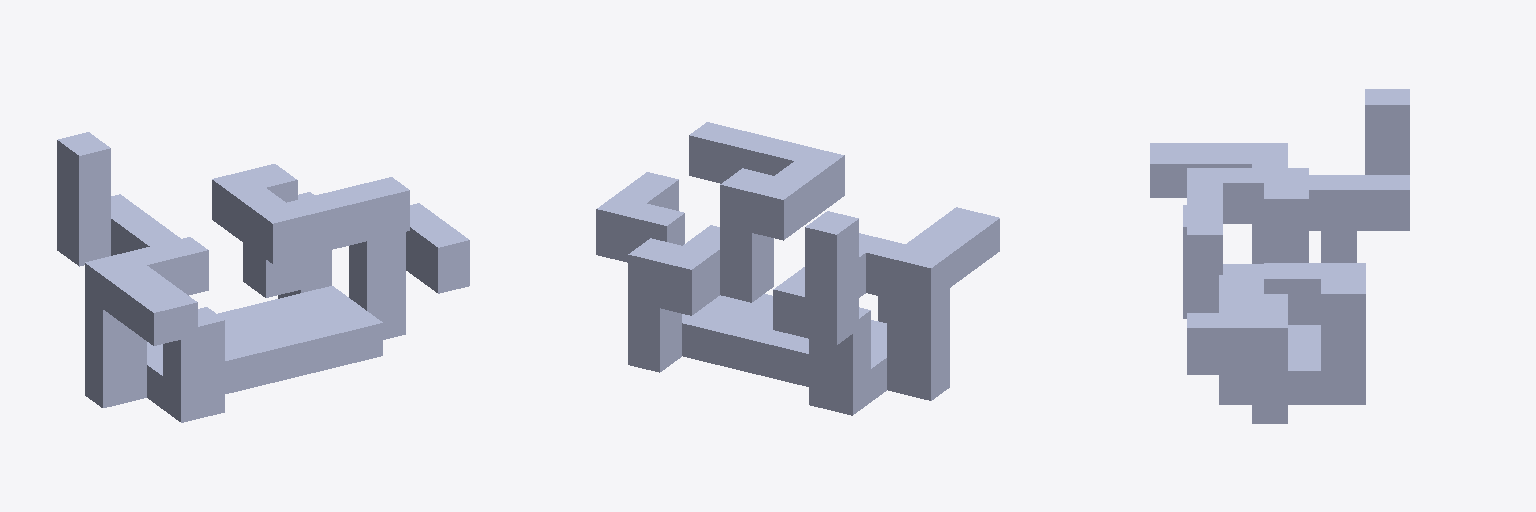
The model's file is Distractor_15.obj.
The picture shows the model from 3 angles: view 1: azimuth 30°, elevation 25°; view 2: azimuth 150°, elevation 25°; view 3: azimuth 270°, elevation 25°; orthographic projection.
Visible parts, largest first — view 1: mesh_1_Long-10; view 2: mesh_1_Long-10; view 3: mesh_1_Long-10.
Boxes of the visible parts, x1,y1,x2,y2 form: mesh_1_Long-10: [57, 132, 469, 422]; mesh_1_Long-10: [596, 122, 999, 415]; mesh_1_Long-10: [1150, 89, 1409, 423].
Size of the model in its own units: 0.19 by 0.11 by 0.128.